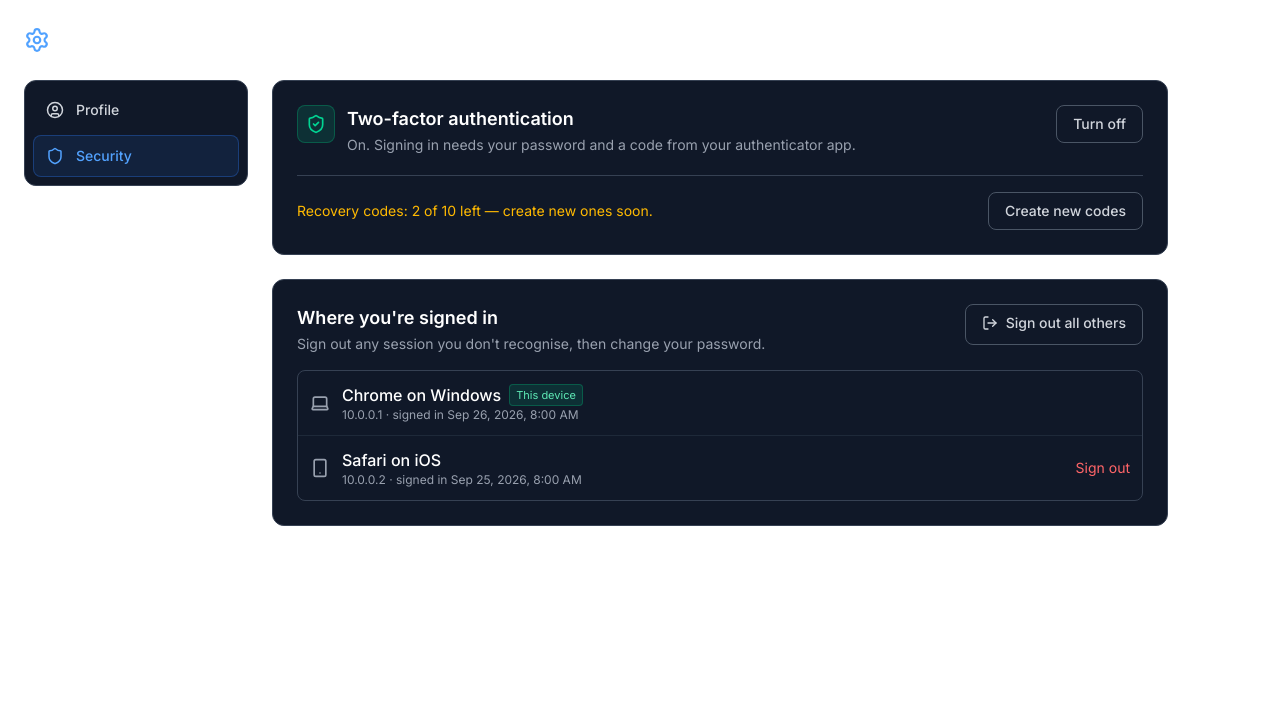
Test: Settings › shows how many recovery codes are left and creates a new set
The width and height of the screenshot is (1280, 720).
Expected: the text "Recovery codes: 2 of 10 left — create new ones soon." is shown, [297,201,653,221]
Click the button "Create new codes".
click(1066, 211)  # box [988,192,1143,230]
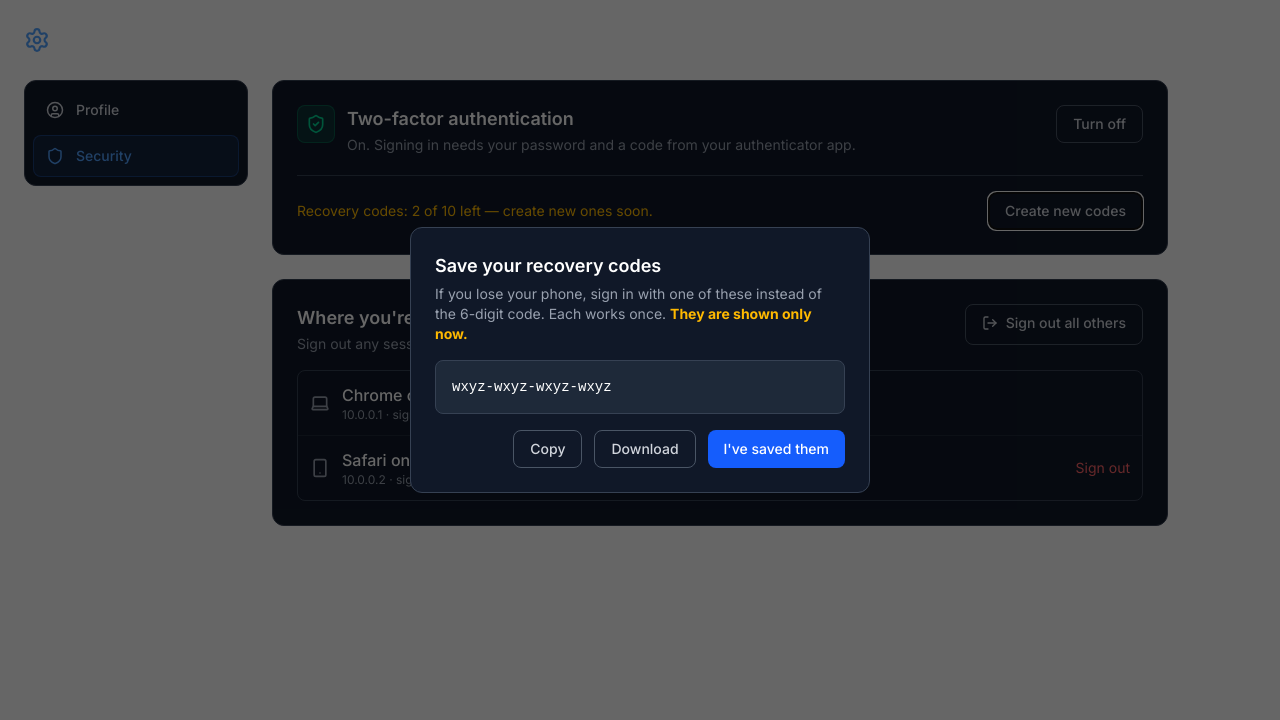
Result: the list item "wxyz-wxyz-wxyz-wxyz" is shown at [452,377,636,397]
